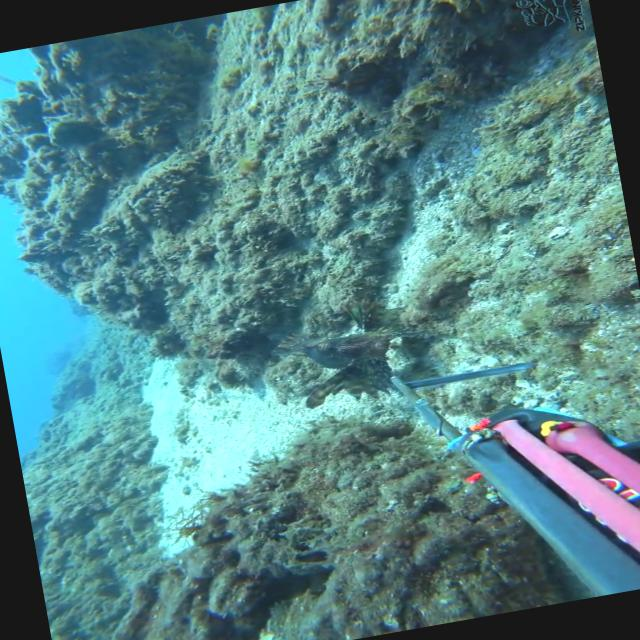Aslan Baligi: (257, 282, 442, 416)
